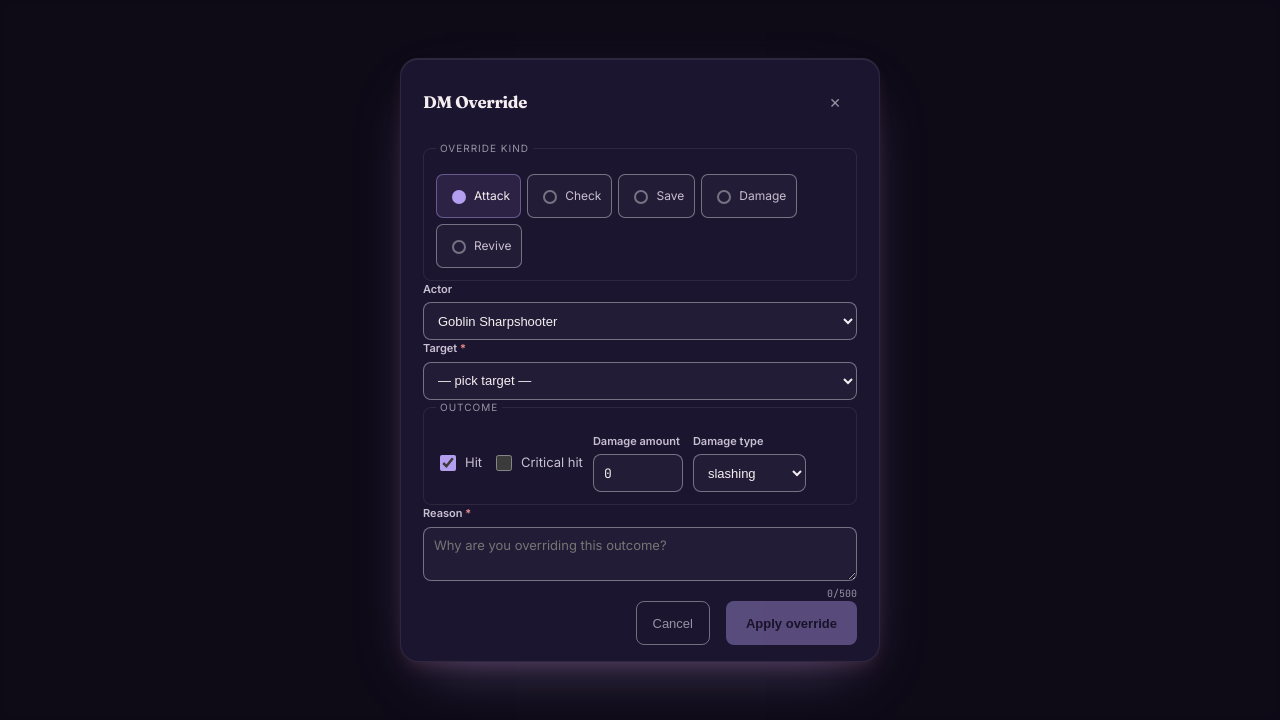
Scenario: M3 — DmOverrideModal: aria-describedby links error div to reason textarea › textarea aria-describedby points to the error div when error appears
Fill reason so submit is enabled, then submit to trigger engine error
Type "test" into the text box labelled "Reason *". click: (640, 554)
box: [423,527,857,581]
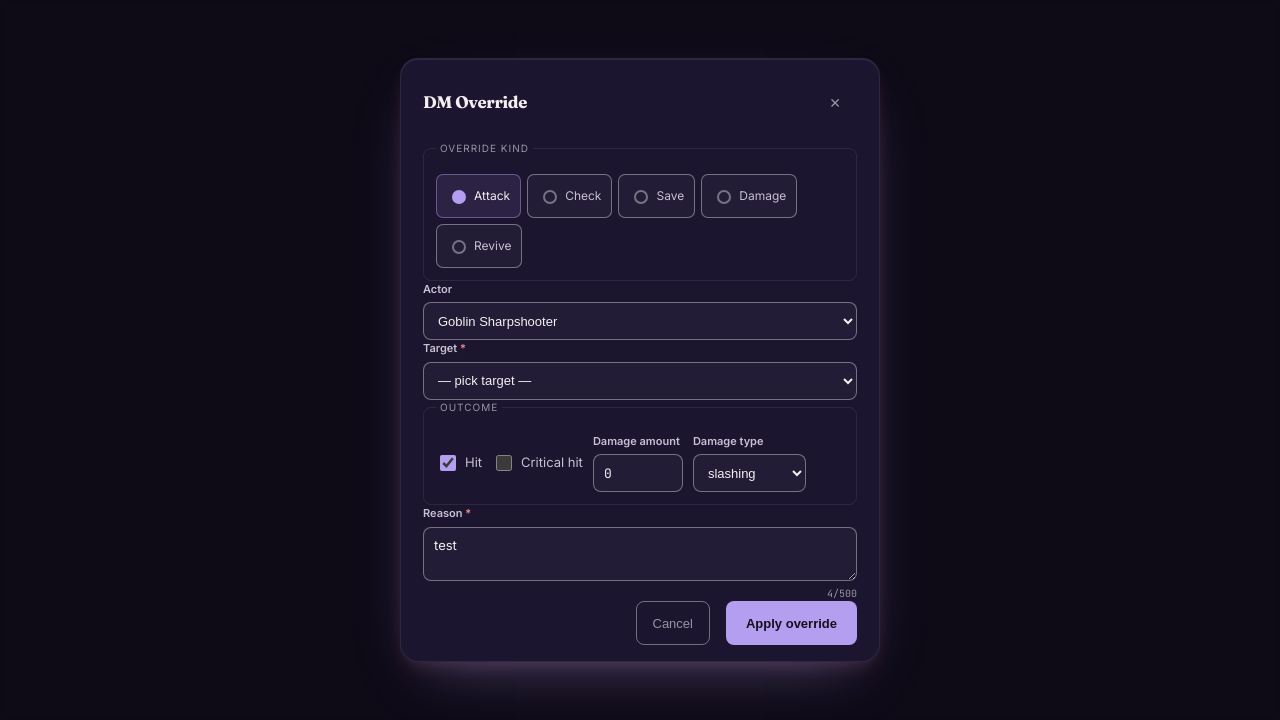
Select "Luke Stormwind (HP 28/28)" in the dropdown labelled "Target *". click: (640, 381)
box: [423,362,857,400]
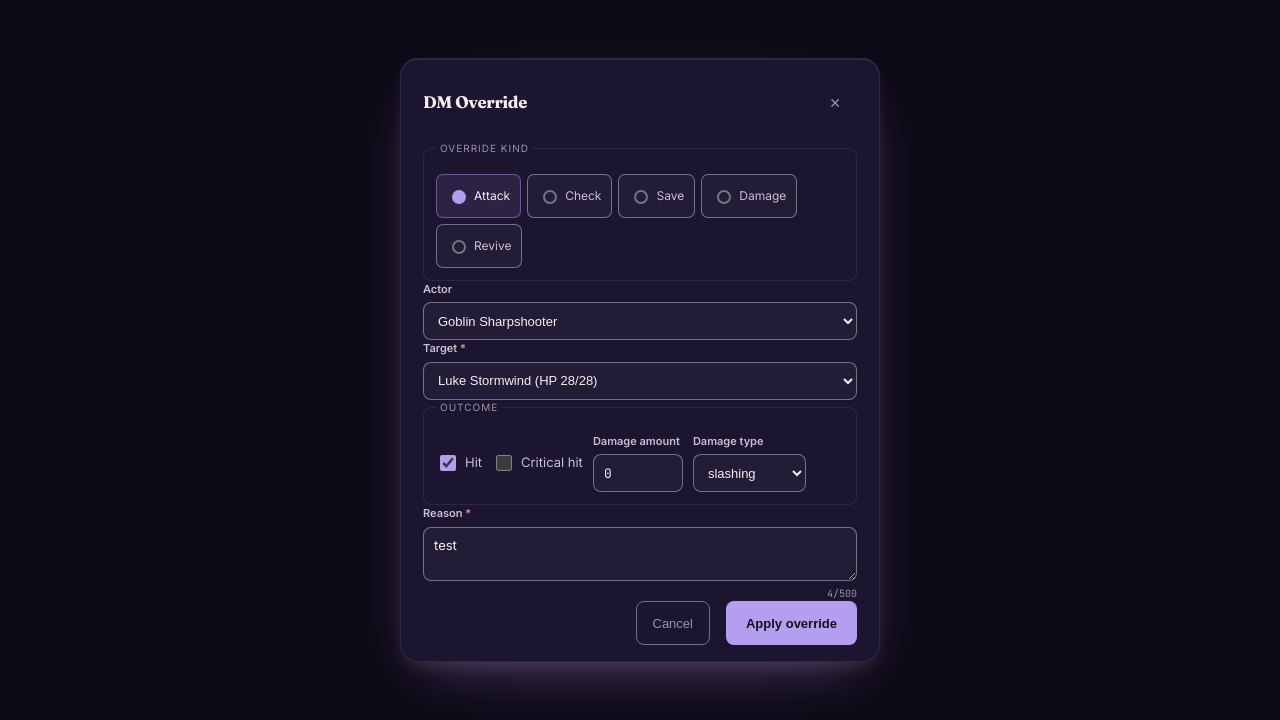
Click the button "Apply override". click: (792, 623)
box: [726,601,857,645]
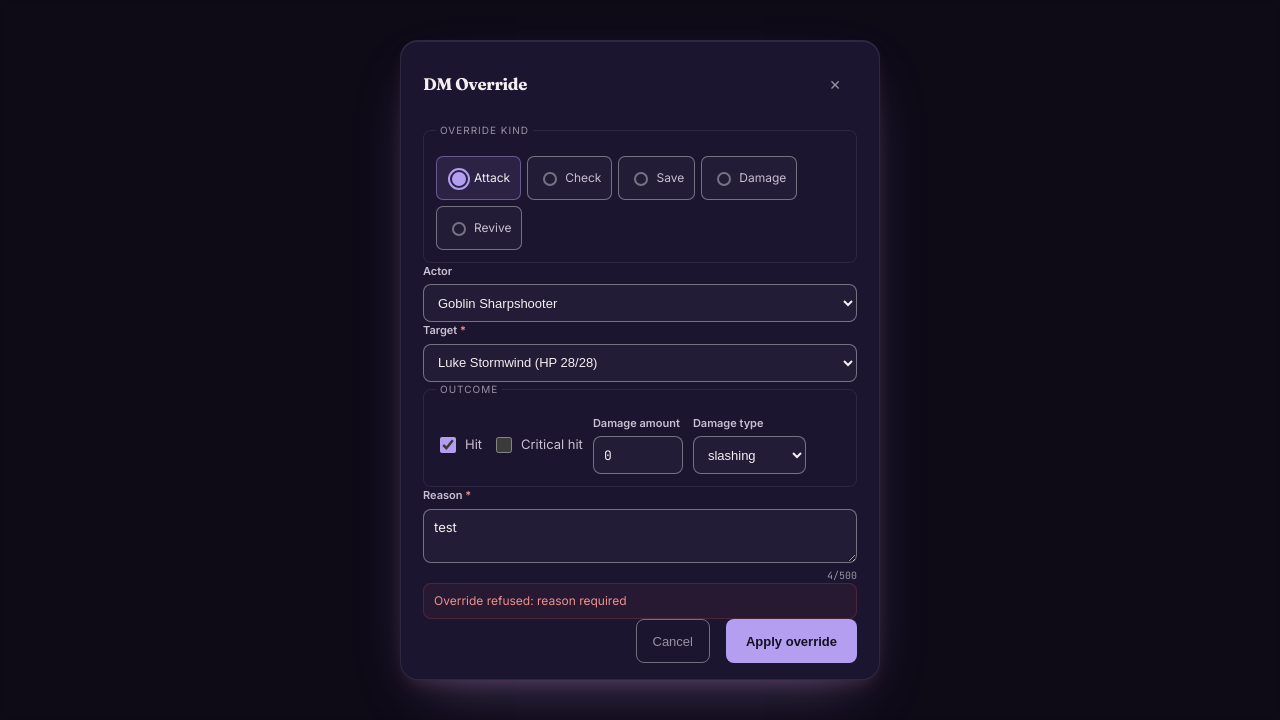
Now the message "Override refused: reason required" is shown, box [423,583,857,619]
